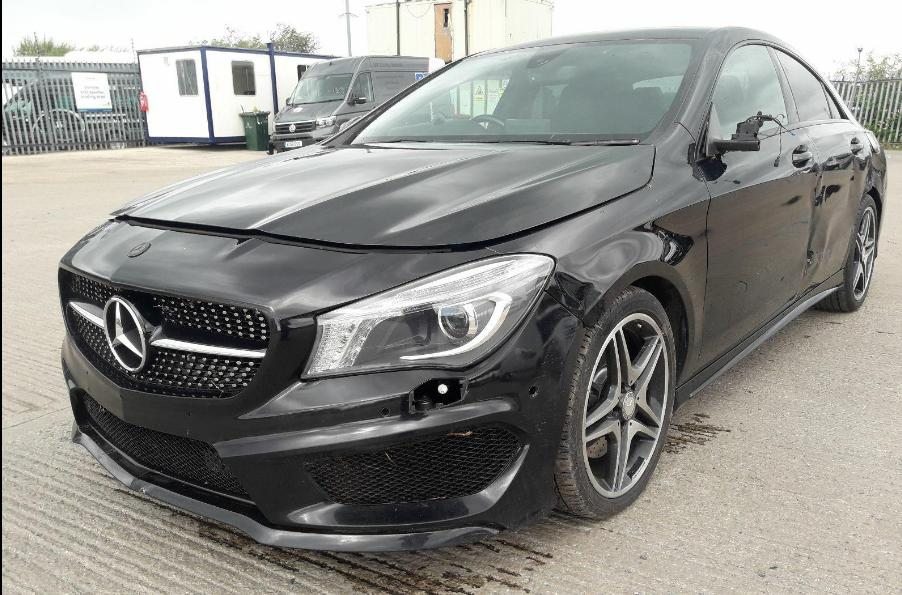Back-door: (773, 43, 873, 300)
Back-wheel: (812, 194, 878, 312)
Back-window: (774, 49, 841, 121)
Fender: (486, 123, 710, 387)
Front-bumper: (57, 217, 587, 550)
Front-door: (692, 39, 821, 378)
Front-wheel: (555, 285, 676, 520)
Front-window: (709, 44, 789, 140)
Grille: (65, 274, 267, 395)
Headlight: (300, 253, 554, 380)
Hood: (112, 143, 654, 246)
Mirror: (711, 114, 781, 154), (339, 117, 361, 132)
Quarter-panel: (863, 128, 887, 237)
Rocker-panel: (674, 269, 844, 414)
Roof: (460, 27, 789, 59)
Windshield: (326, 38, 701, 146)
